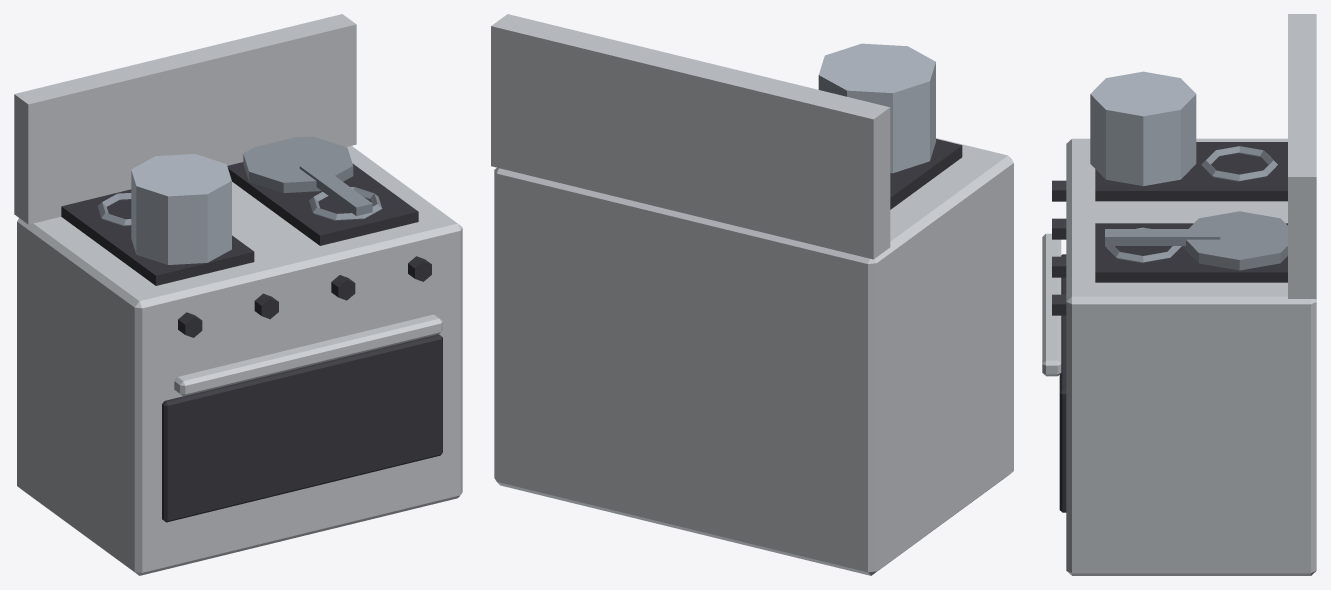
Rendered from CommercialStove.fbx.
3 renders of one model, left to right at view 1: azimuth 30°, elevation 25°; view 2: azimuth 150°, elevation 25°; view 3: azimuth 270°, elevation 25°, orthographic. The views are drawn at different scales.
Visible parts, largest first — view 1: CommercialStove; view 2: CommercialStove; view 3: CommercialStove.
Part boxes in pixels (x1,y1,x2,y2): CommercialStove: [14, 14, 462, 575]; CommercialStove: [491, 14, 1013, 575]; CommercialStove: [1042, 14, 1316, 575].
Size of the model in its own units: 4 by 4.6 by 2.85.
1 material, 1 textured.
